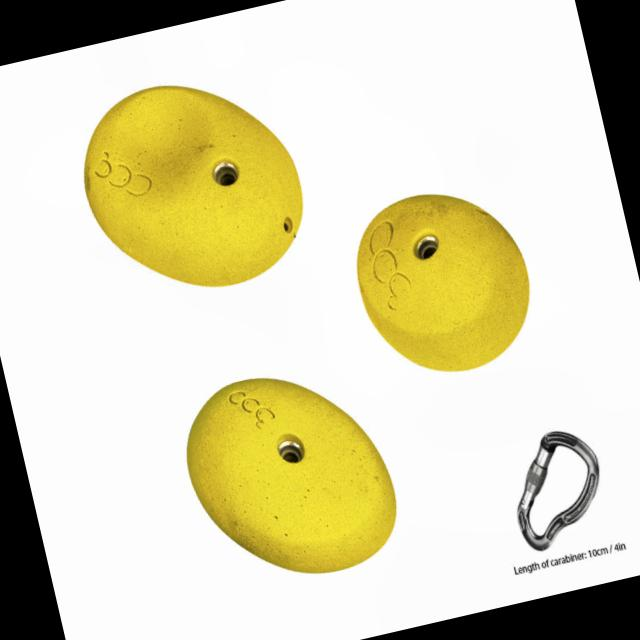Hold: (60, 56, 322, 316), (167, 354, 413, 604), (338, 176, 547, 395)
